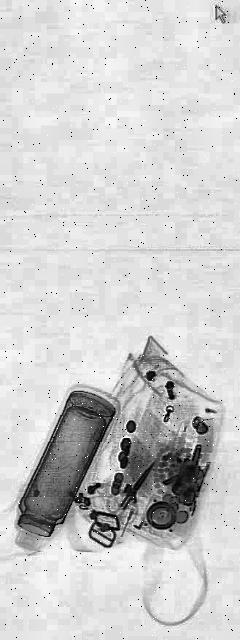Knife: (116, 445, 156, 519)
